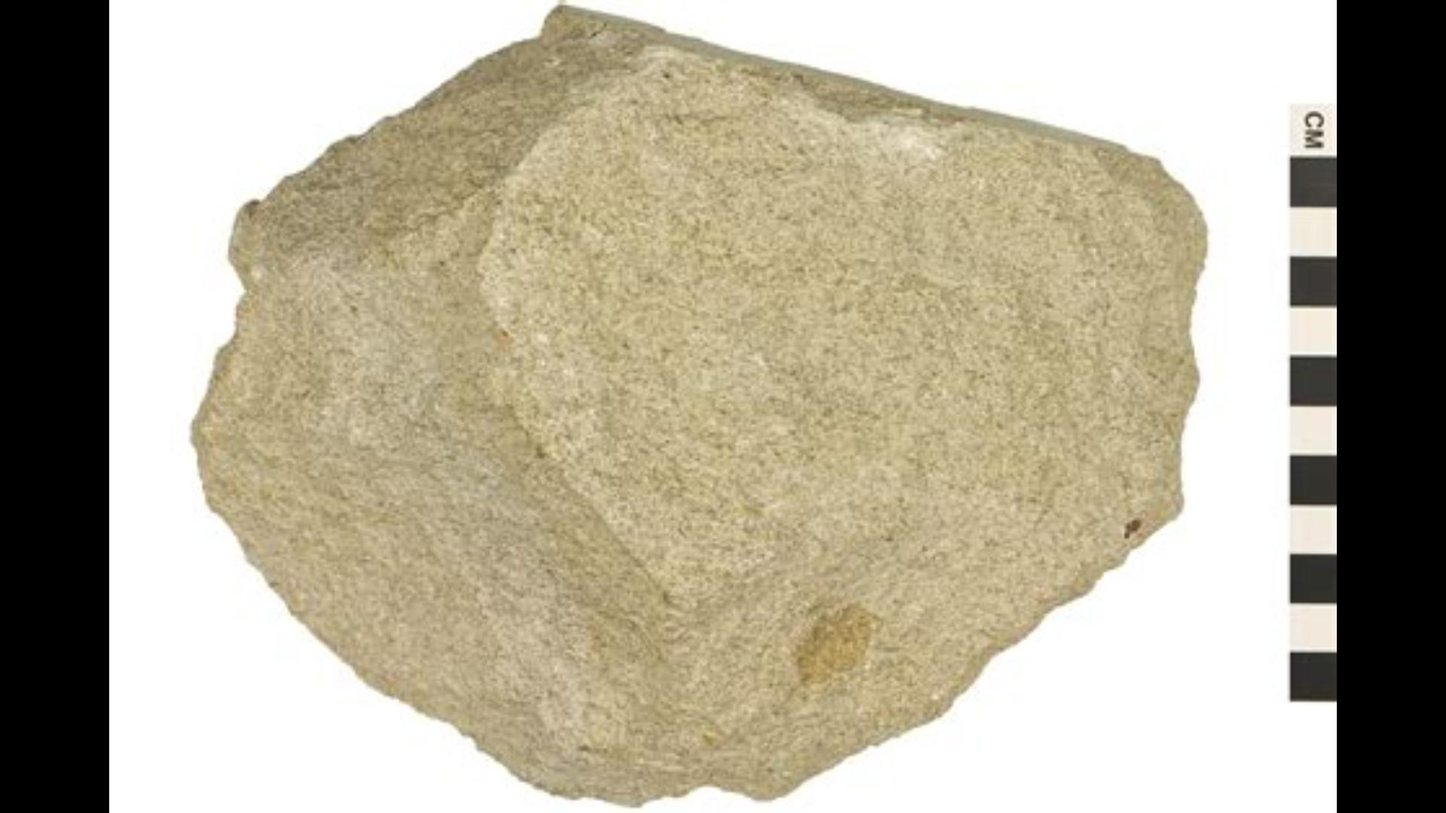rock: (195, 10, 1202, 800)
